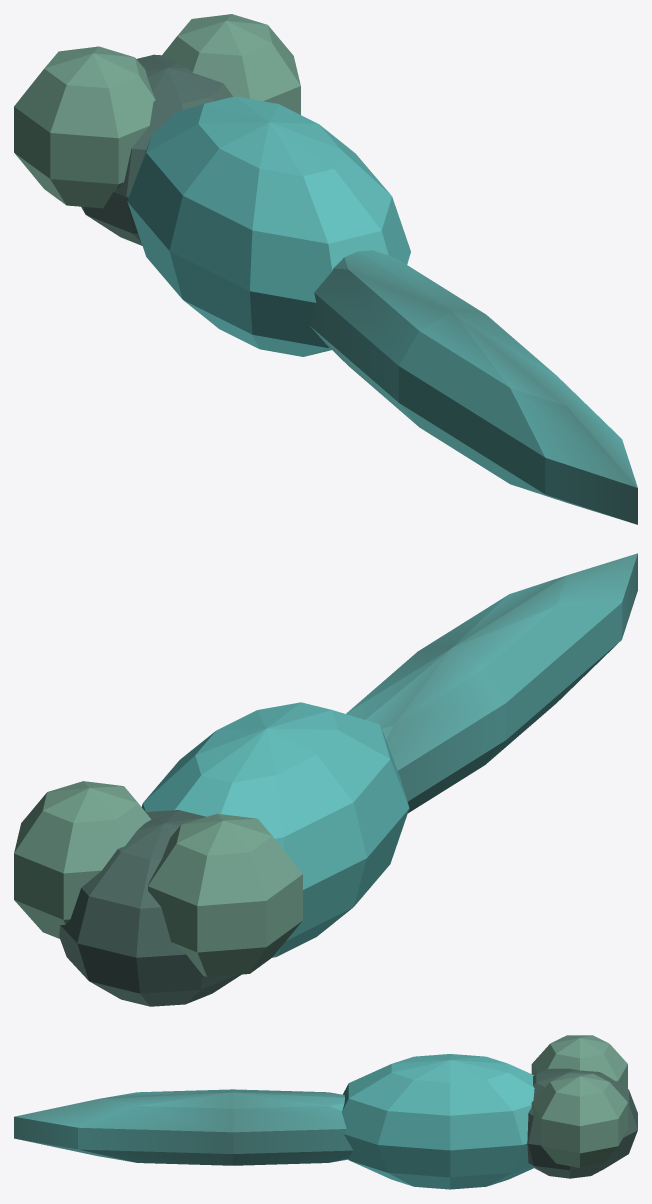
Rendered from fauna-dragonfly.glb.
3 views of the same model, one above another, from view 1: azimuth 30°, elevation 25°; view 2: azimuth 150°, elevation 25°; view 3: azimuth 270°, elevation 25° (orthographic). The views are drawn at different scales.
Bounding box in the file's own units: 0.0551 × 0.043 × 0.1924.
